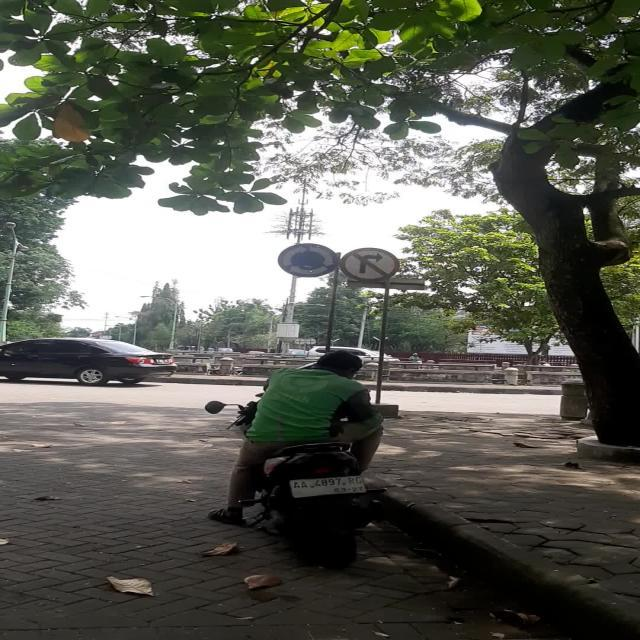Dilarang Belok Kanan: (341, 247, 398, 281)
